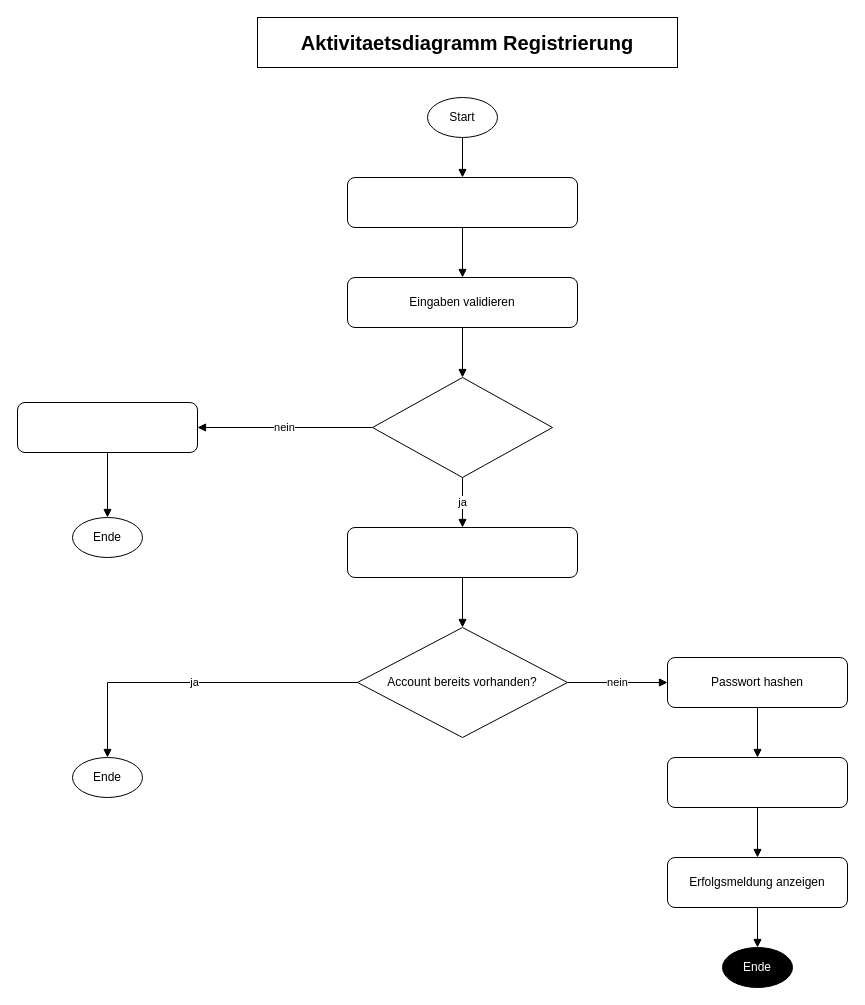
Image size: 865x1005. Some labels were removed from this diagram. Here are the shapes that lost their labels. From the top down, the centre of each, then its label:
[462,202]: Formular absenden
[107,427]: Fehler anzeigen
[462,427]: Sind Eingaben gueltig?
[462,552]: Email und Username pruefen
[757,782]: Account speichern
